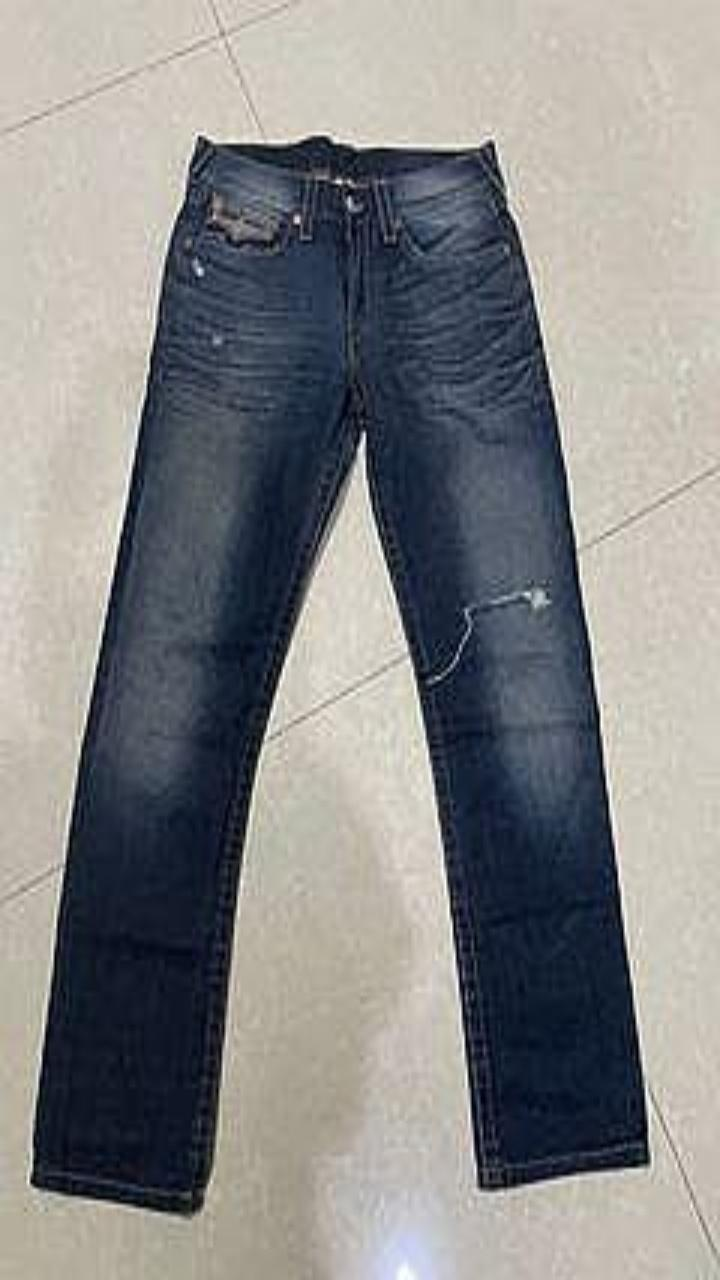Jeans: (30, 135, 649, 1212)
